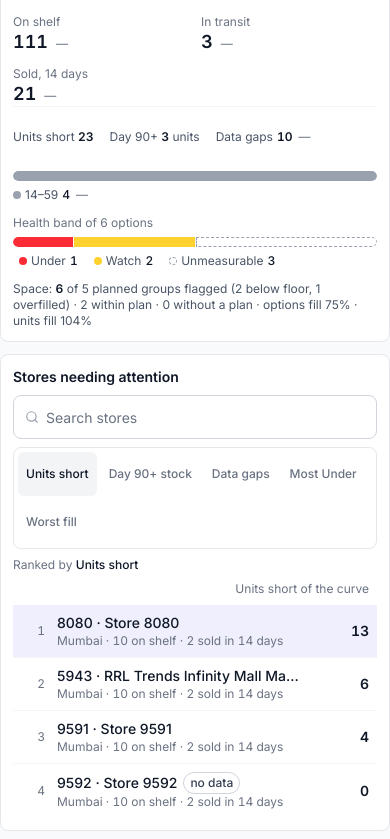
Test: Distribution Centre overview in 2bc › searches the ranked stores and clears an empty search
(page scrolled)
Type "malad" into the field with placeholder "Search stores" at point(195, 417), box [13,395,377,439]
(page scrolled)
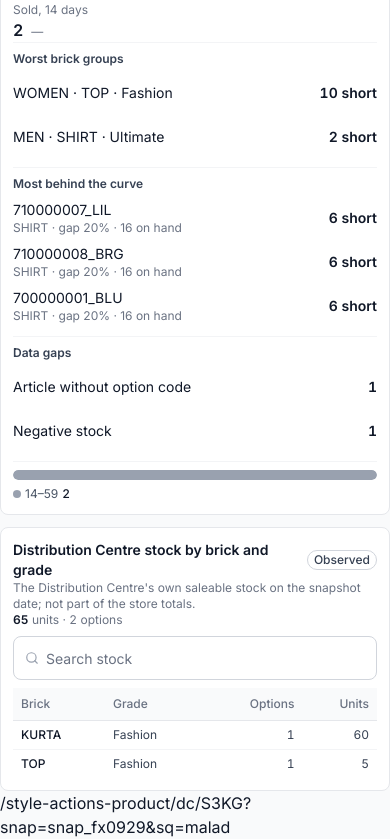
expect the button with test id "dc-store-row-8080" is gone: met
expect the text with test id "location" shows "sq=malad": met, box [0,793,251,837]
